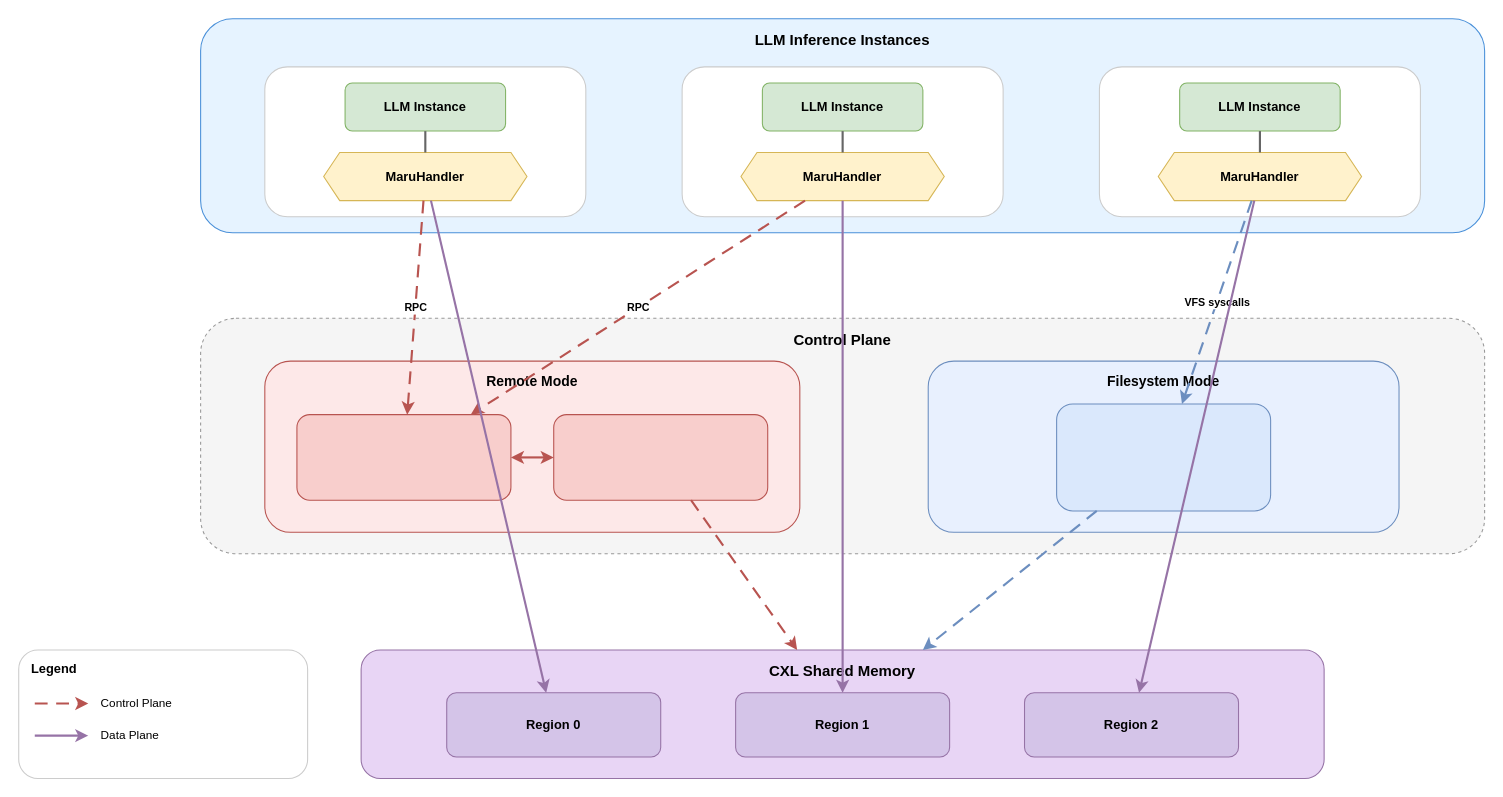
The diagram is 1503 pixels wide and 797 high, and some of its shapes have lost their labels. The shapes that lost their labels are listed below. From the top down, each one's centre as x and y in pixels, then its label:
At point 403,457: "MaruServer KVManager + AllocationManager".
At point 660,457: "MaruResourceManager Pool Manager + WAL".
At point 1163,457: "marufs.ko Global Index + RAT".
